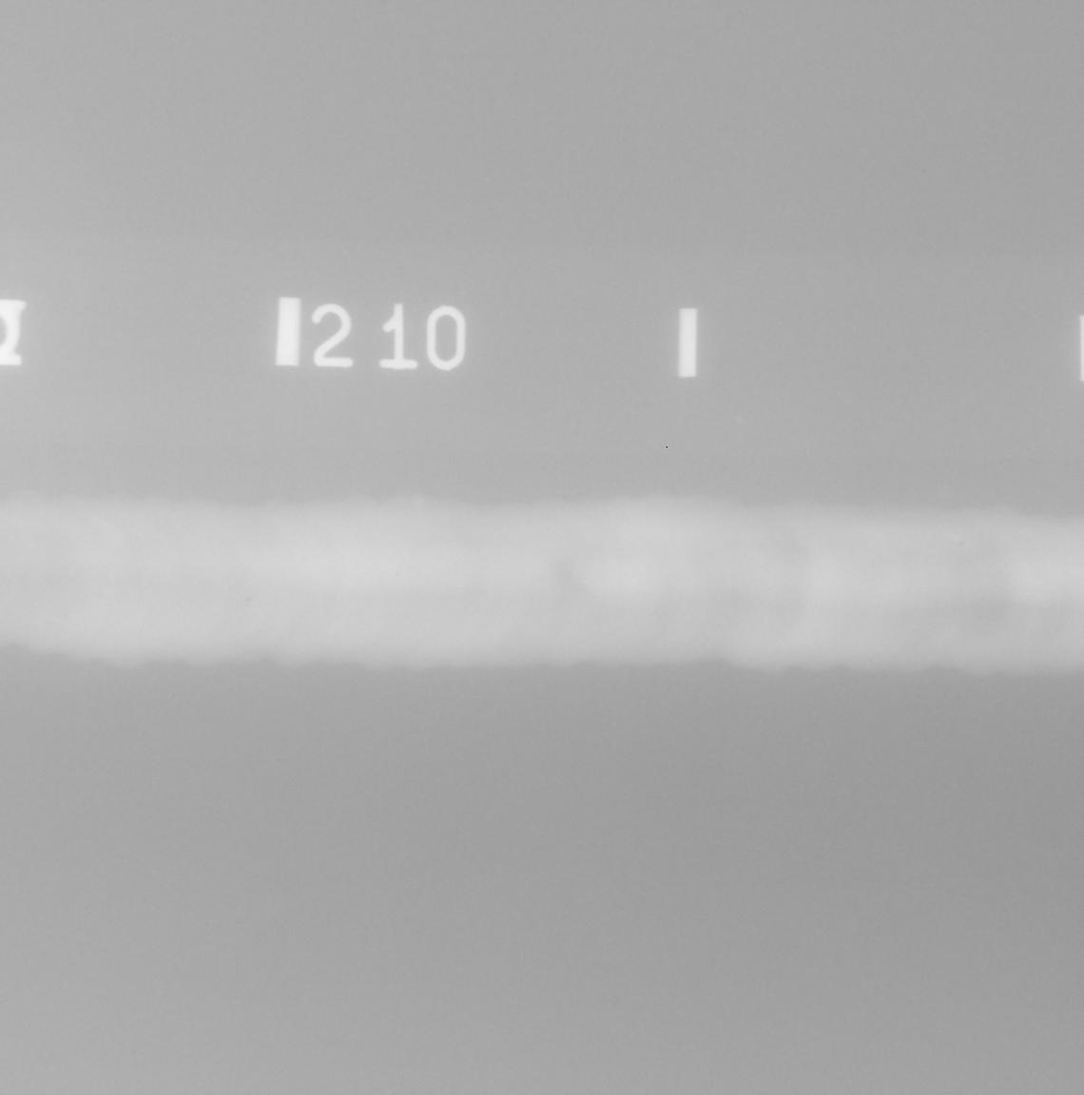Pore/Porosity: (959, 541, 965, 546), (395, 571, 400, 576), (246, 599, 250, 602)
